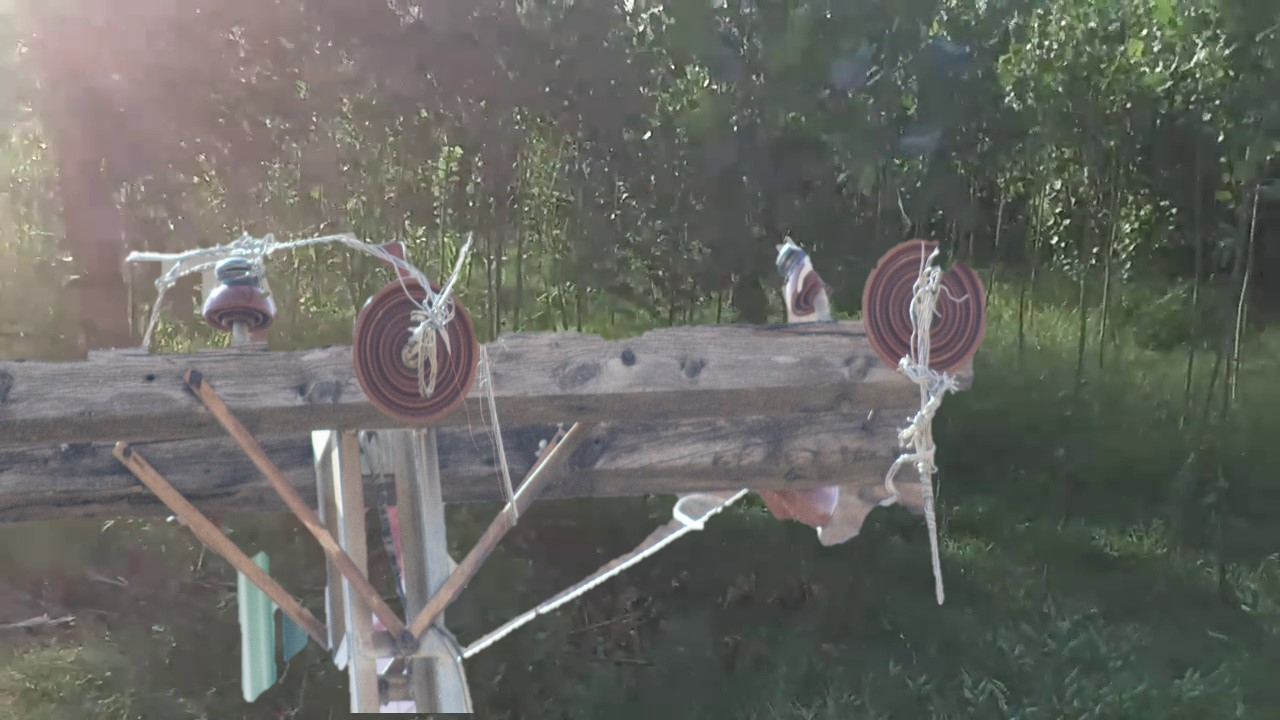defect_pin: (772, 234, 841, 330)
insulator_disc: (344, 272, 484, 429), (864, 227, 989, 384)
insulator_pin: (195, 248, 281, 337)
